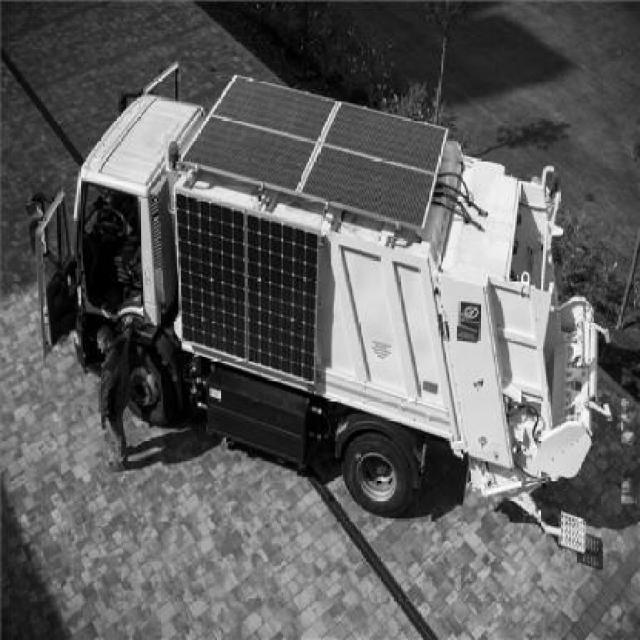Garbage Truck: (37, 77, 597, 556)
